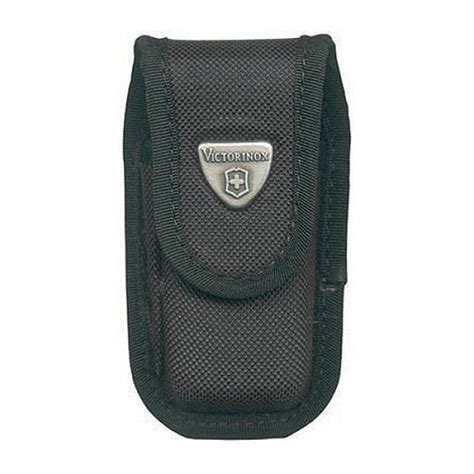nylon: (123, 33, 347, 440)
